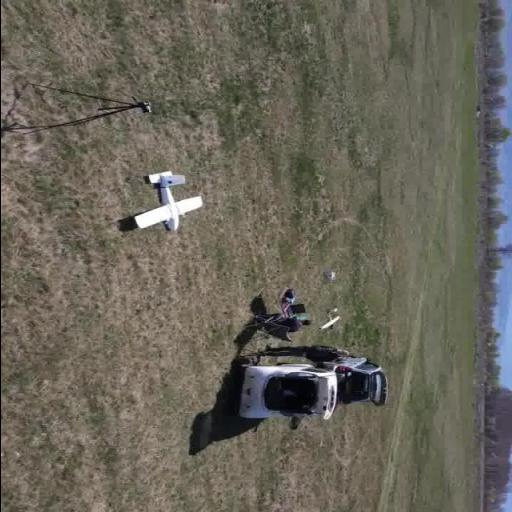uav: (113, 168, 207, 242)
